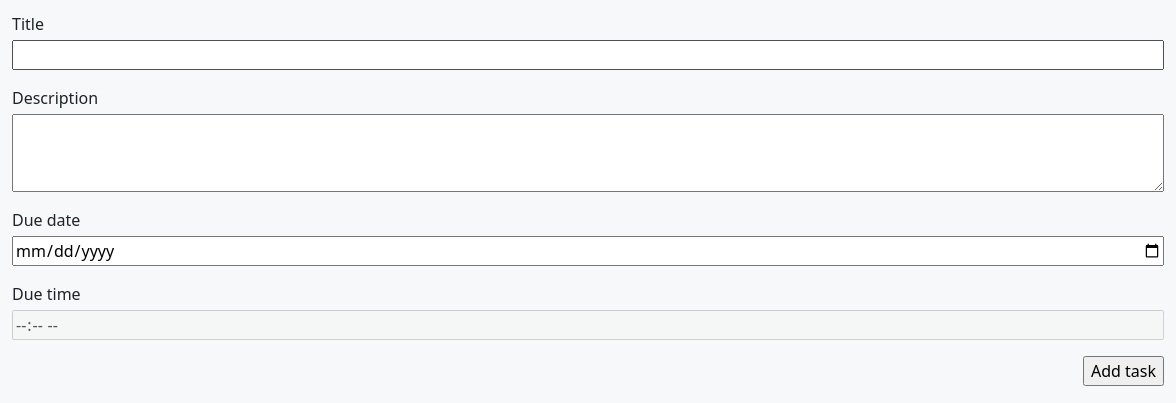
Test: TodoForm › disables Due time until a date is entered
Check: the time field labelled "Due time" is disabled, box [12,310,1164,340]
In the date field labelled "Due date": (588, 251) [12,236,1164,266], type "2026-10-03"
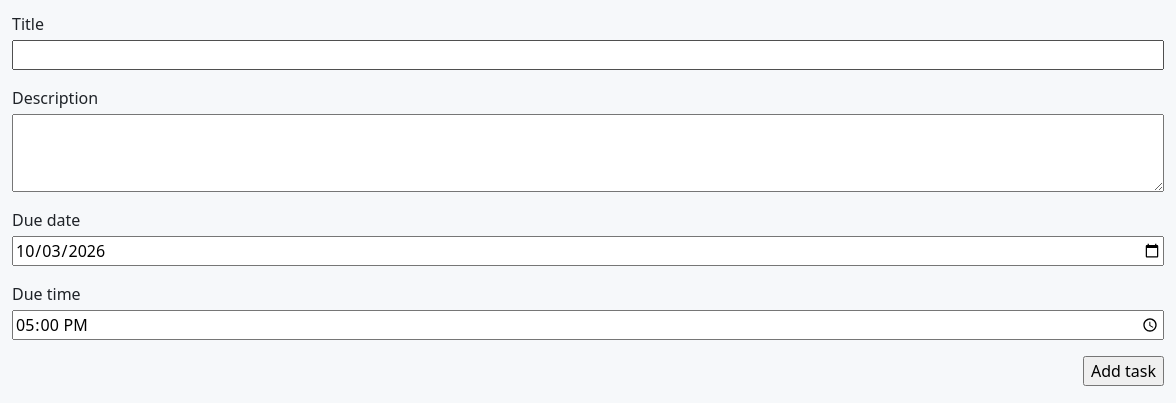
Check: the time field labelled "Due time" is enabled, box [12,310,1164,340]
